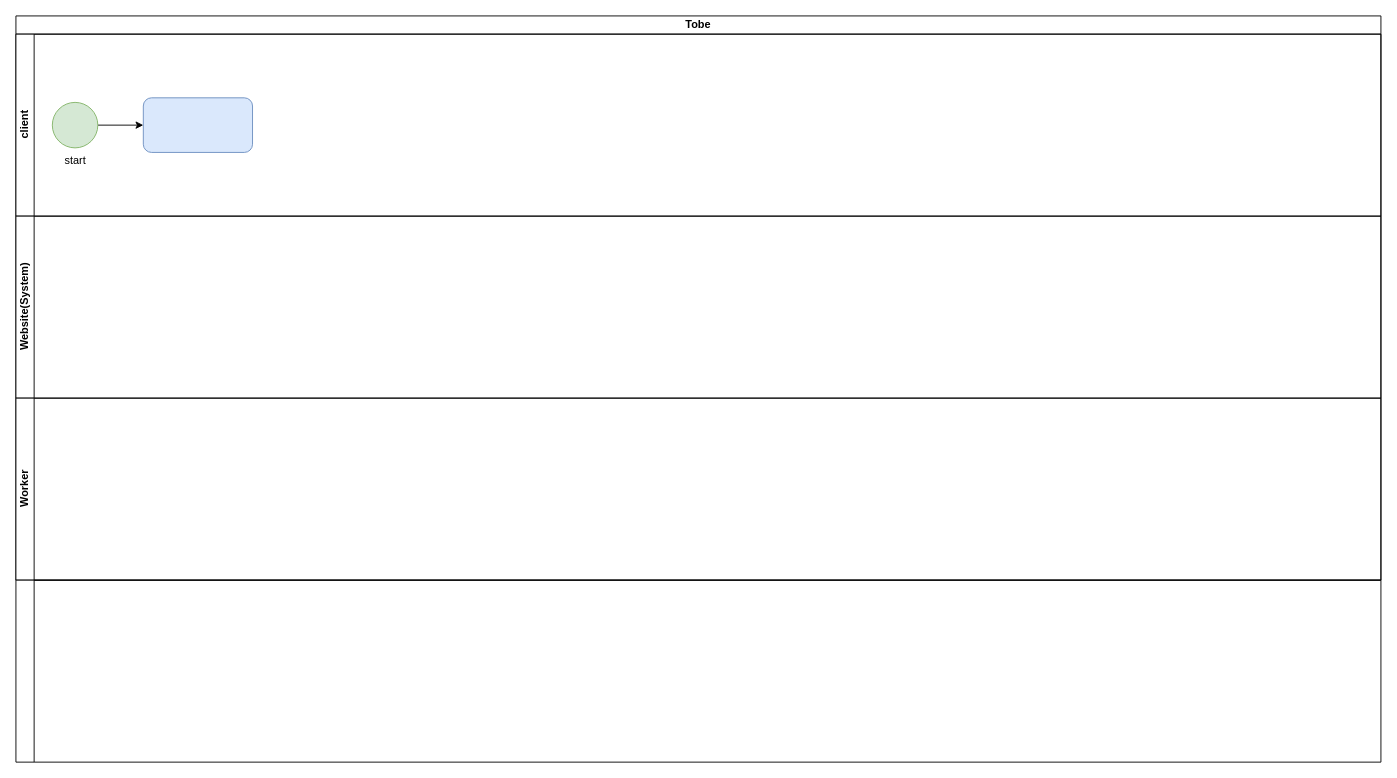
Image size: 1397x778. Some labels were removed from this diagram. The centre of each missing label's shape, as x and y in pixels:
"Boss" belongs at point 698,670.
"Investigate for car rental company" belongs at point 197,124.
